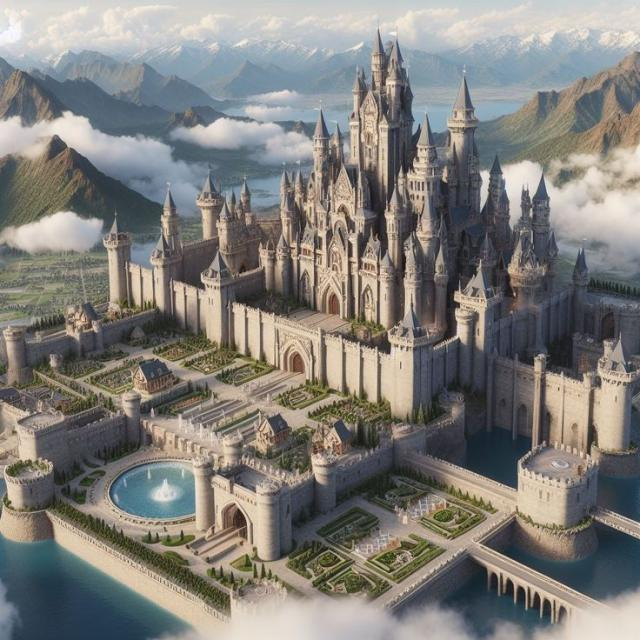castle: (51, 25, 624, 396)
